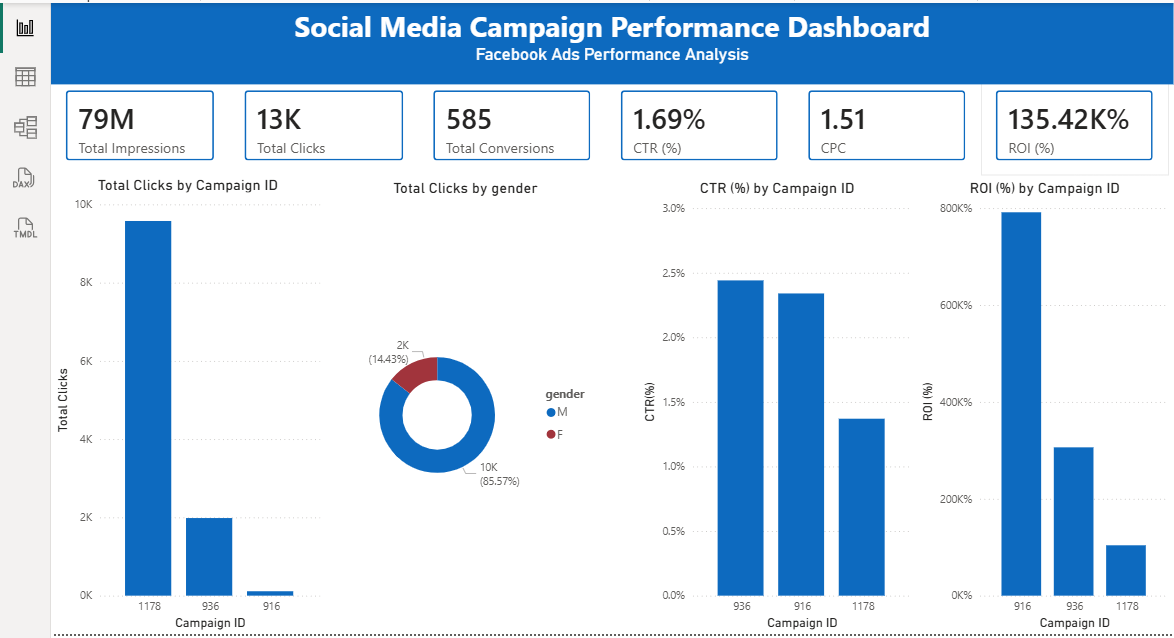

The dashboard page shown, as its layout file describes it:
{"tool":"powerbi","page":{"name":"Campaign Overview","canvas":[1280,720],"ordinal":0},"visuals":[{"type":"cardVisual","fields":{"Data":["data.Total Impressions"]},"box":[0,82.7,203.8,114],"z":0},{"type":"cardVisual","fields":{"Data":["data.Total Conversions"]},"box":[419.1,82.7,213.8,114],"z":1},{"type":"cardVisual","fields":{"Data":["data.CPC"]},"box":[846.7,82.7,213.8,114],"z":2},{"type":"cardVisual","fields":{"Data":["data.Total Clicks"]},"box":[203.8,82.7,215.2,114],"z":3},{"type":"cardVisual","fields":{"Data":["data.CTR (%)"]},"box":[632.9,82.7,213.8,114],"z":4},{"type":"cardVisual","fields":{"Data":["data.ROI (%)"]},"box":[1060.5,82.7,213.8,114],"z":5},{"type":"clusteredColumnChart","title":"Total Clicks by Campaign ID","fields":{"Category":["data.campaign_id"],"Y":["data.Total Clicks"]},"box":[0,196.7,312.2,523.1],"z":6},{"type":"donutChart","fields":{"Category":["data.gender"],"Y":["data.Total Clicks"]},"box":[312.2,201,320.7,518.8],"z":7},{"type":"clusteredColumnChart","title":"CTR (%) by Campaign ID","fields":{"Category":["data.campaign_id"],"Y":["data.CTR (%)"]},"box":[669.9,201,316.4,518.8],"z":8},{"type":"clusteredColumnChart","title":"ROI (%) by Campaign ID","fields":{"Category":["data.campaign_id"],"Y":["data.ROI (%)"]},"box":[986.4,201,293.6,518.8],"z":9},{"type":"textbox","box":[0,0,1280,92.7],"z":10}]}

Visuals, with their boxes on the page's 1280x720 design canvas (x1, y1, x2, y2). These are canvas units, not pixel positions in the 1174x638 screenshot, which may show the page scaled, cropped or inside an application window:
cardVisual - data.Total Impressions: 0,83,204,197
cardVisual - data.Total Conversions: 419,83,633,197
cardVisual - data.CPC: 847,83,1060,197
cardVisual - data.Total Clicks: 204,83,419,197
cardVisual - data.CTR (%): 633,83,847,197
cardVisual - data.ROI (%): 1060,83,1274,197
"Total Clicks by Campaign ID" clusteredColumnChart: 0,197,312,720
donutChart - data.gender x data.Total Clicks: 312,201,633,720
"CTR (%) by Campaign ID" clusteredColumnChart: 670,201,986,720
"ROI (%) by Campaign ID" clusteredColumnChart: 986,201,1280,720
textbox: 0,0,1280,93
